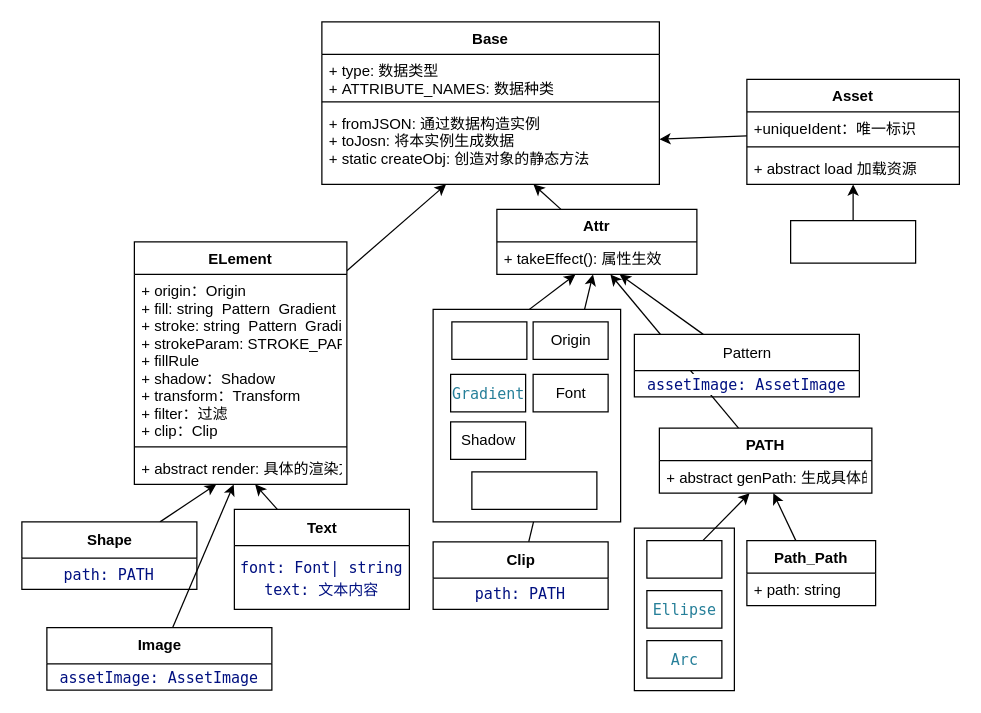
Image size: 981x713. Some labels were removed from this diagram. Each missing label, with the centre of its shape:
"AssetImage" goes at (x=852, y=241).
"Rect" goes at (x=684, y=558).
"StrokeParam" goes at (x=534, y=490).
"Transform" goes at (x=489, y=340).
